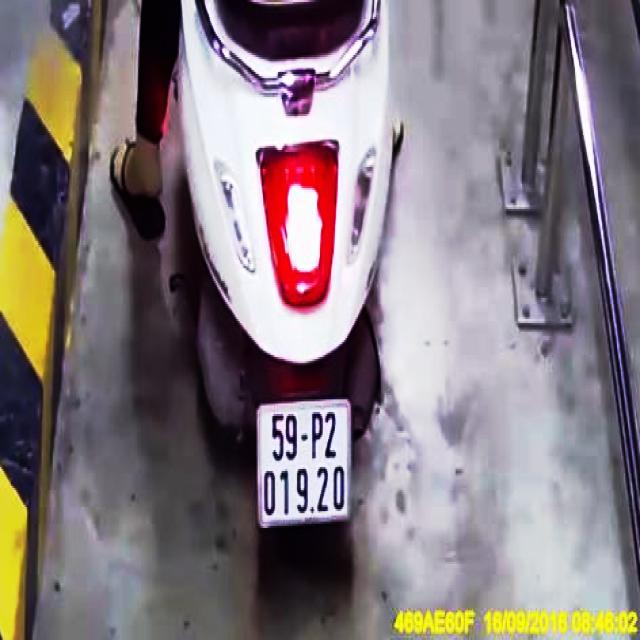license_plate: (260, 402, 354, 528)
